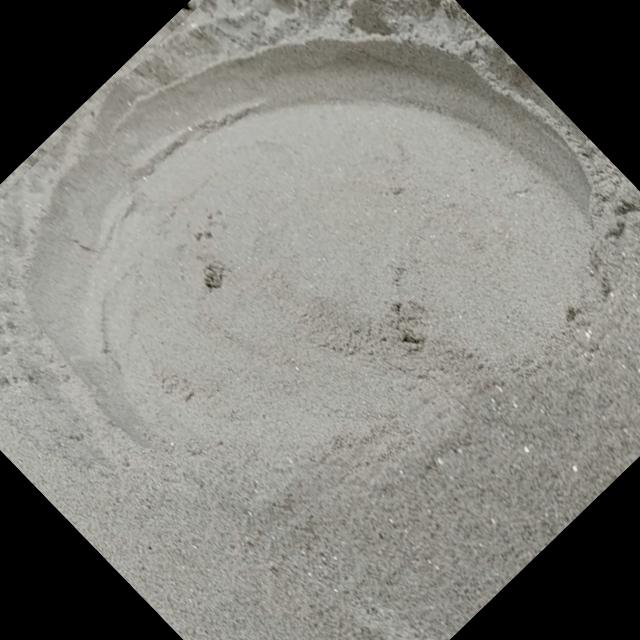C40: (3, 21, 593, 458)
